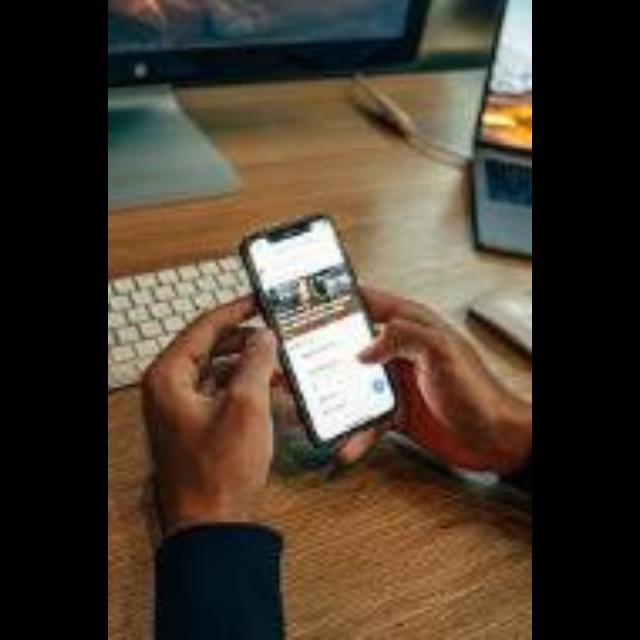phone: (211, 211, 439, 465)
